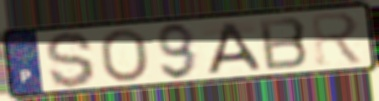9: (156, 21, 201, 82)
A: (204, 20, 264, 76)
B: (256, 15, 312, 73)
O: (97, 27, 152, 84)
R: (308, 10, 367, 68)
S: (43, 29, 98, 90)
